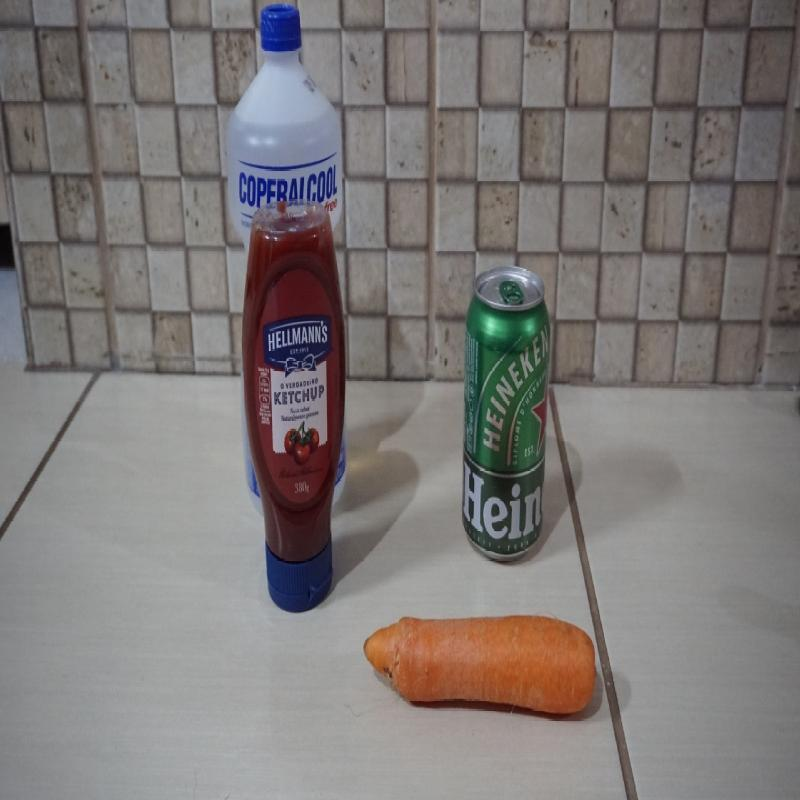Alcohol Bottle: (227, 6, 340, 215)
Beer can: (464, 267, 550, 557)
Carrot: (366, 614, 597, 712)
Ketchup: (241, 199, 348, 611)
